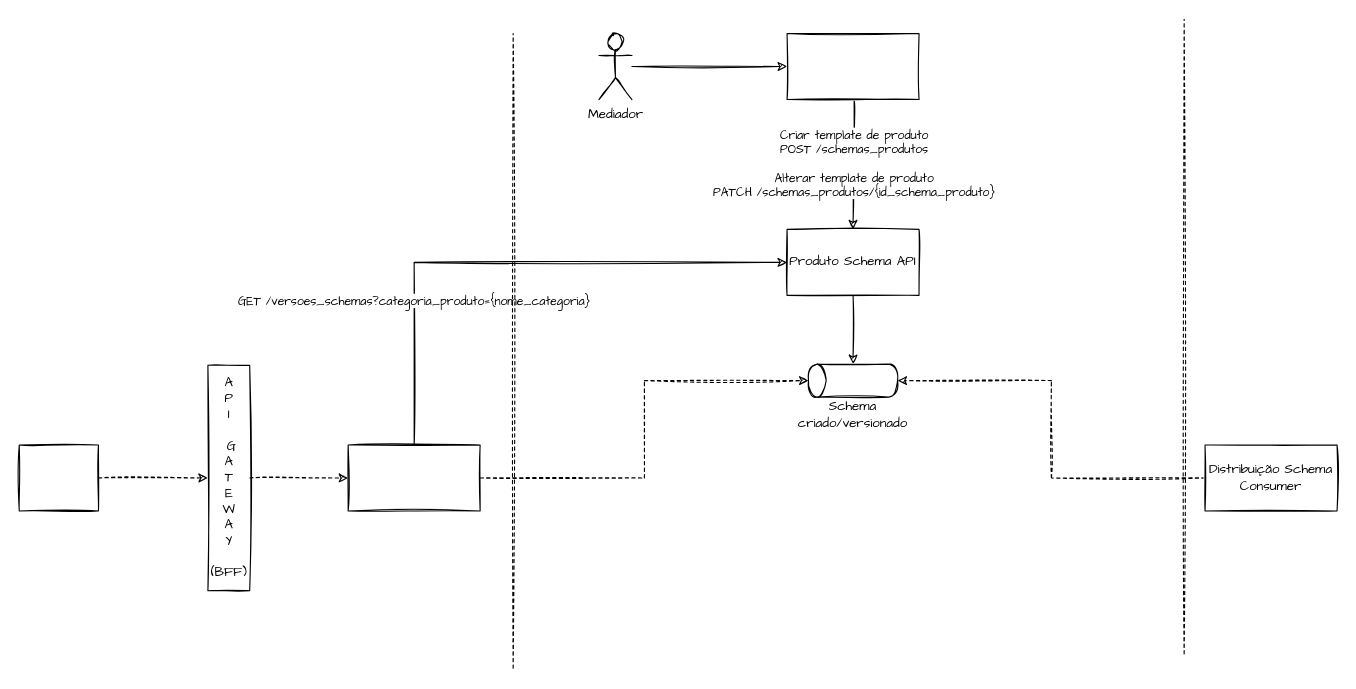
Image size: 1356x689. Some labels were removed from this diagram. The shapes that lost their labels are listed below. From the top down, each one's centre as x and y in pixels, then its label:
At [852,66]: "Produto Schema Frontend".
At [58,477]: "Developer Portal Front".
At [413,477]: "Developer Portal Backend".
